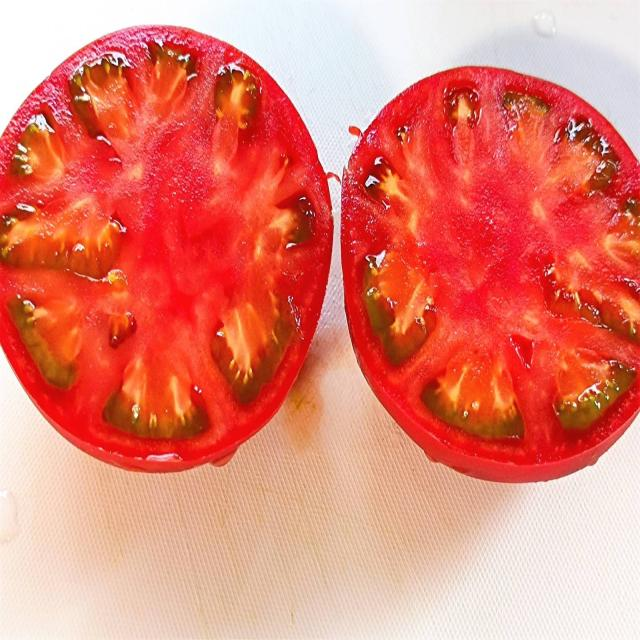Tomato: (0, 23, 338, 483), (337, 62, 640, 489)
